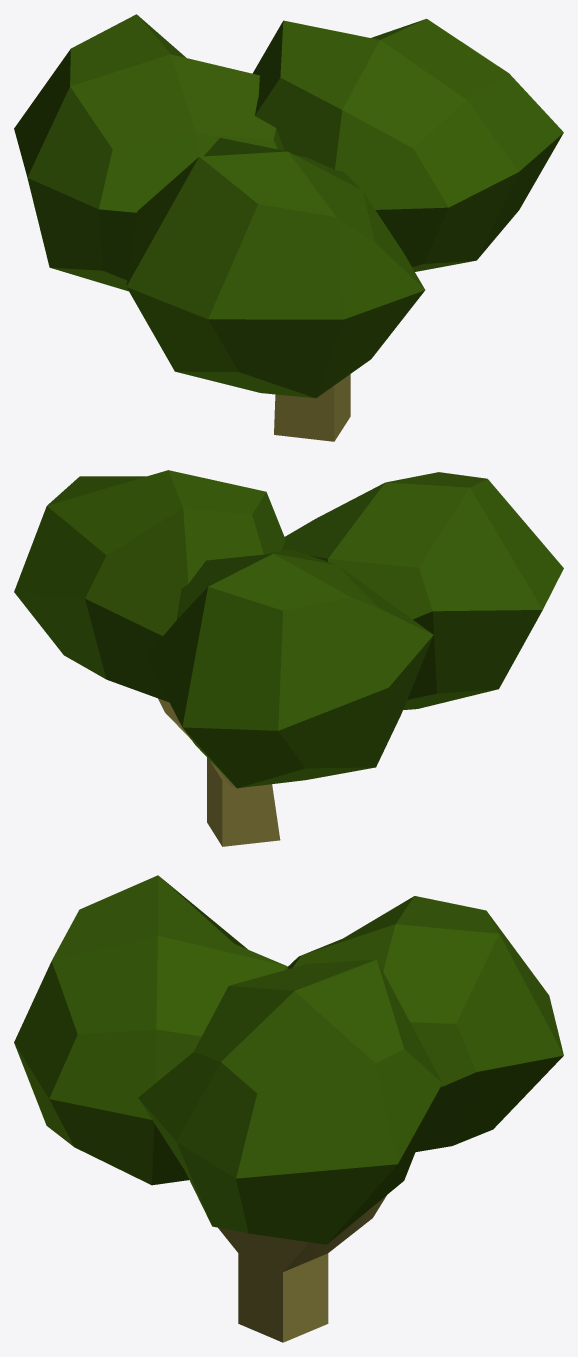
The model's file is bush.fbx.
3 renders of one model, top to bottom at view 1: azimuth 30°, elevation 25°; view 2: azimuth 150°, elevation 25°; view 3: azimuth 270°, elevation 25°, orthographic. The views are drawn at different scales.
Parts seen in each view (by area): view 1: pCube107; view 2: pCube107; view 3: pCube107.
Boxes of the visible parts, left/top/right/bottom form: pCube107: left=14, top=14, right=563, bottom=441; pCube107: left=14, top=470, right=563, bottom=846; pCube107: left=14, top=875, right=563, bottom=1342.
Size of the model in its own units: 25.65 by 18.84 by 25.2.
